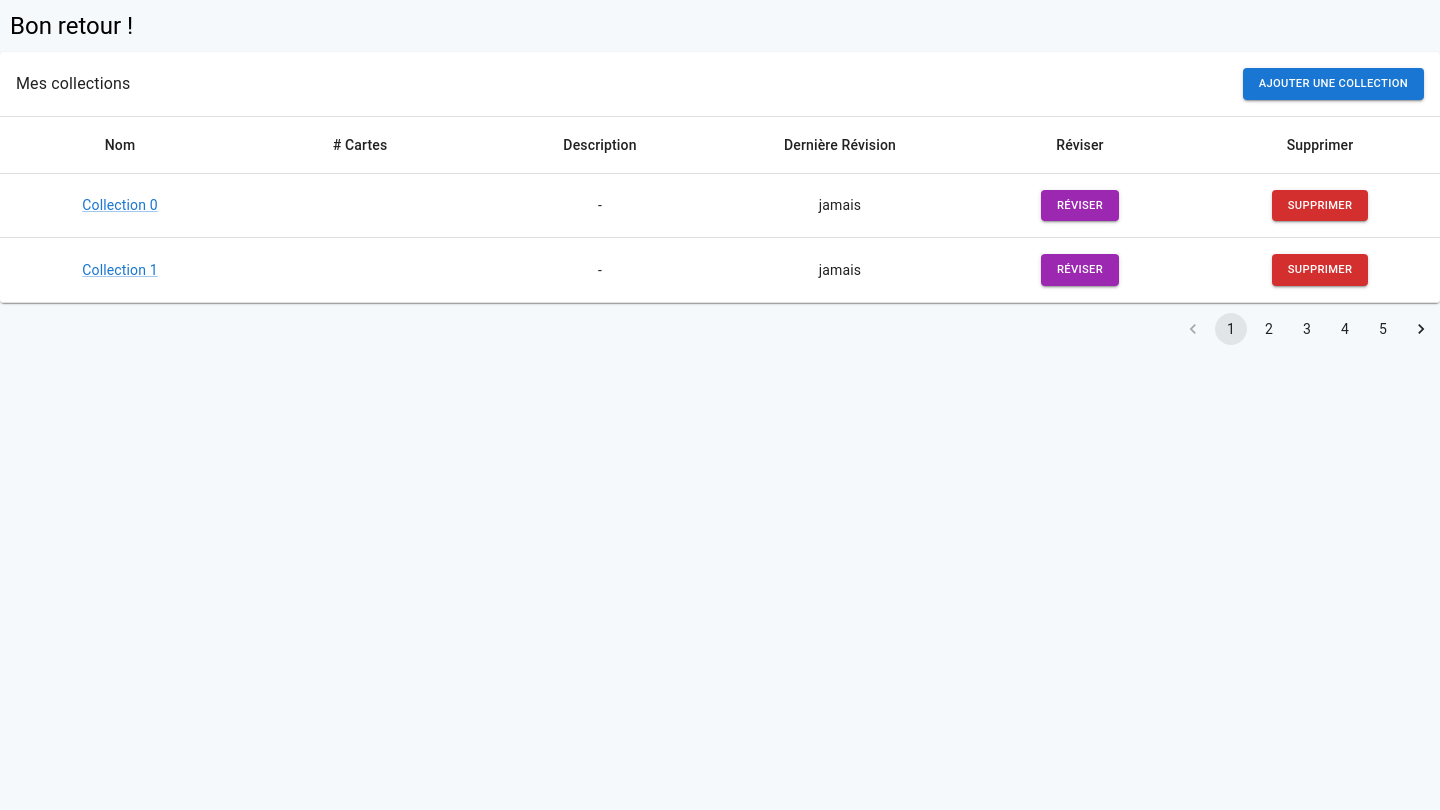
Test: HomeContent › Tests that clicking the collection button open the modal
The image size is (1440, 810).
Click the button with test id "create-collection-button" at (1333, 84), box x1=1243 y1=68 x2=1424 y2=100
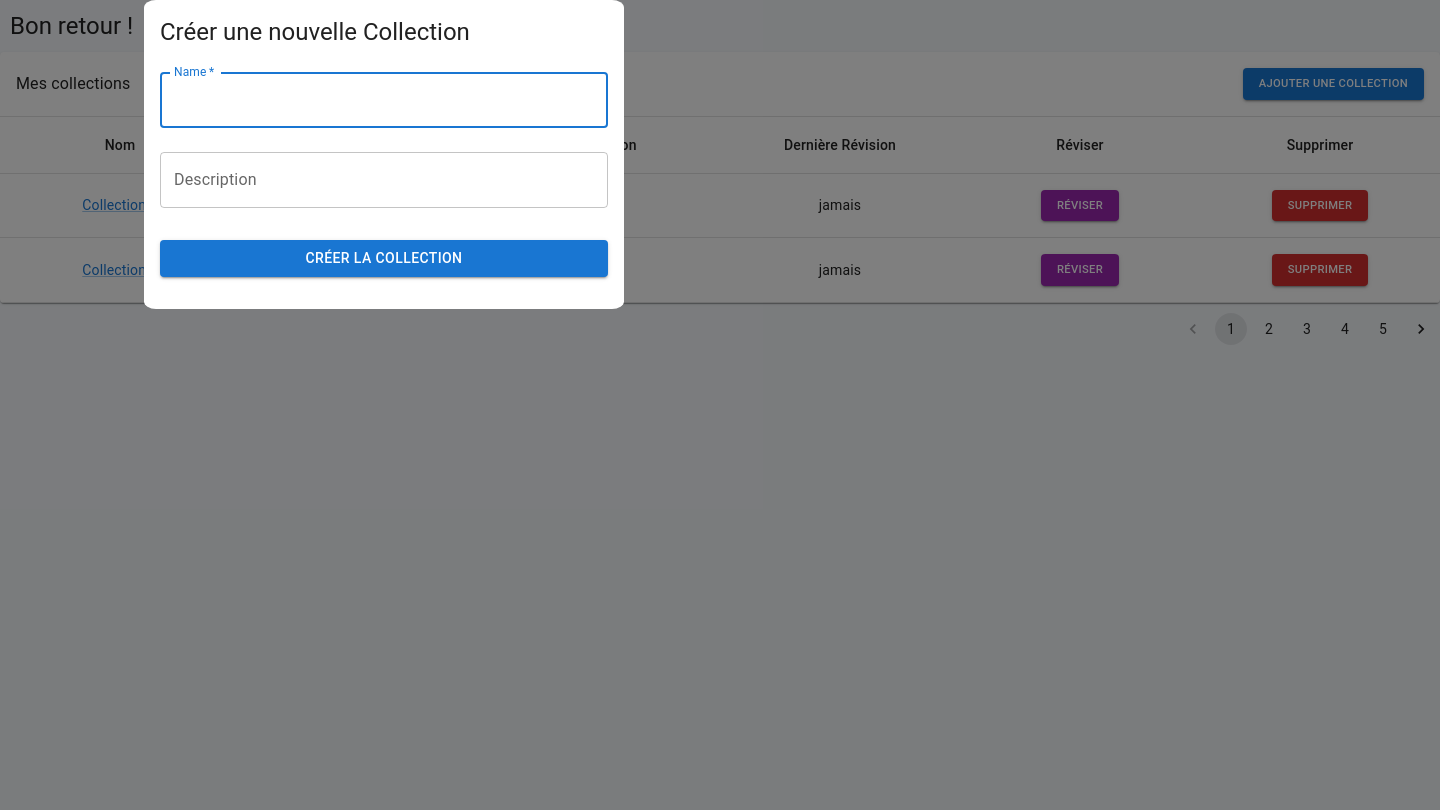
Expected: the element with test id "create-collection-modal" is shown
